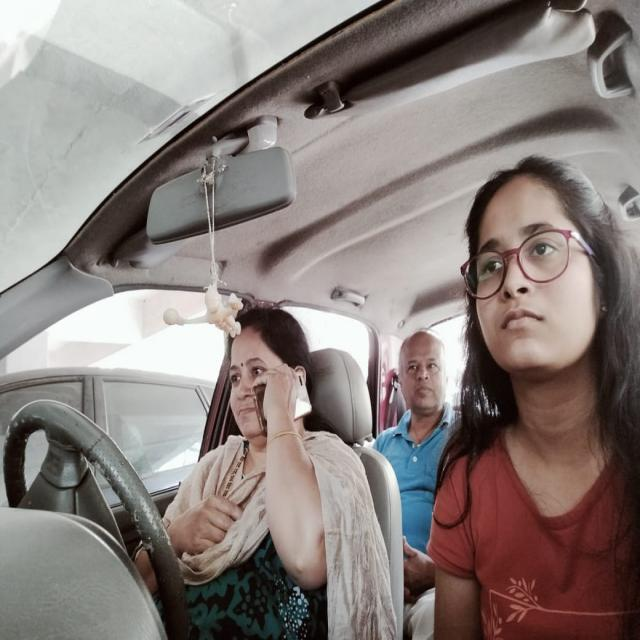mobile: (249, 375, 313, 435)
person: (454, 150, 617, 420), (214, 294, 317, 462), (383, 326, 455, 418)
